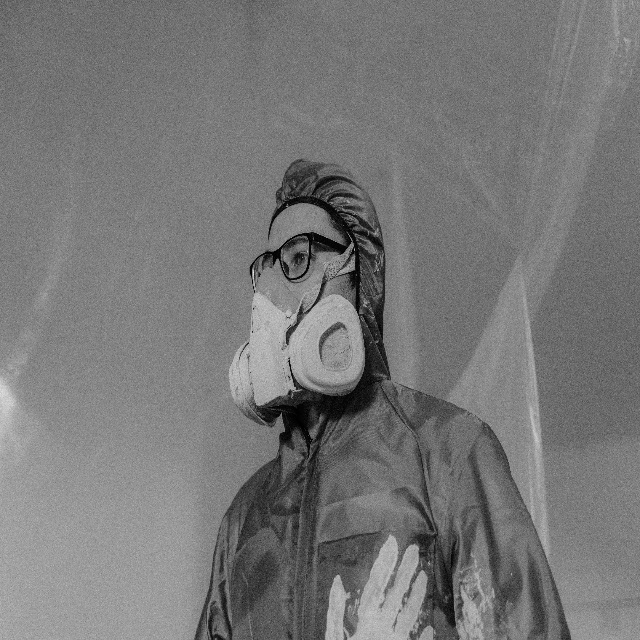Gafas: (248, 242, 318, 279)
